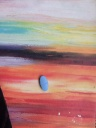Majezik: (38, 74, 49, 92)
